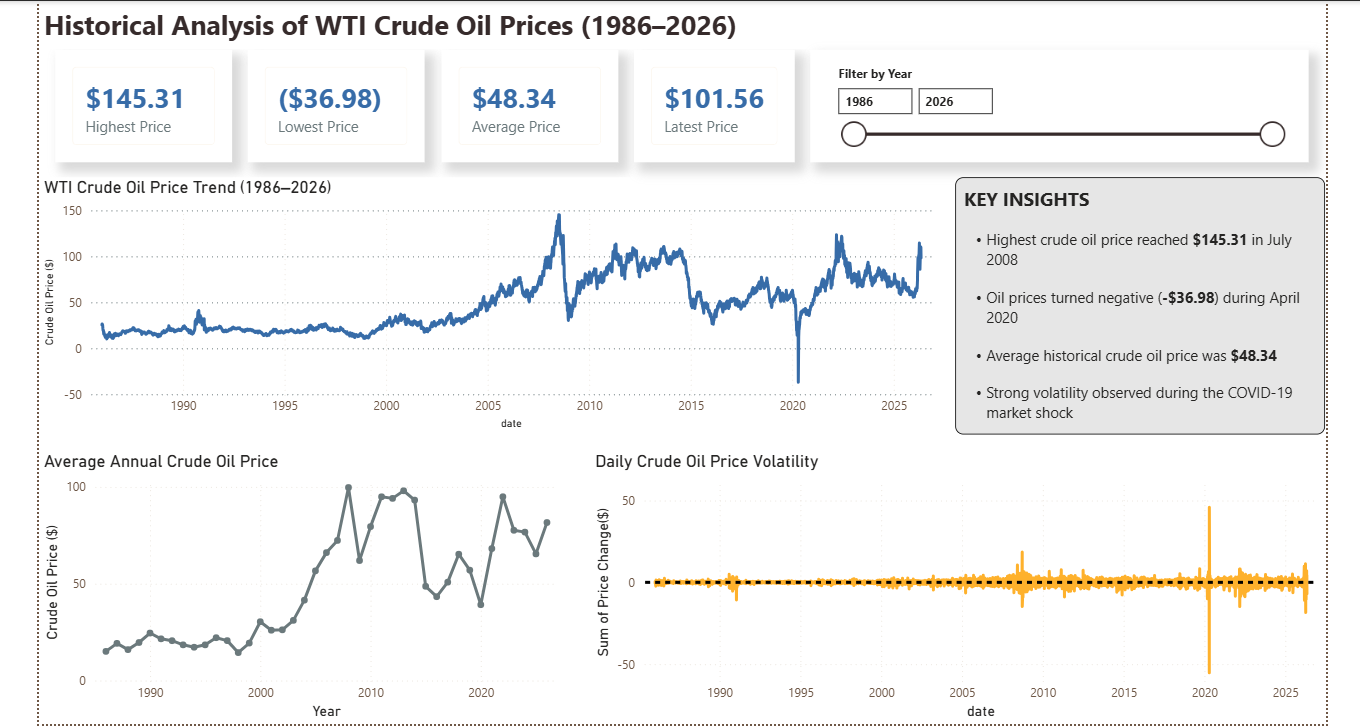

This screenshot's page, from the dashboard's own definition file:
{"tool":"powerbi","page":{"name":"Page 1","canvas":[1280,720],"ordinal":0},"visuals":[{"type":"cardVisual","fields":{"Data":["Max(refined_crude_oil.price)"]},"box":[16,48,176,112],"z":0},{"type":"cardVisual","fields":{"Data":["Min(refined_crude_oil.price)"]},"box":[208,48,176,112],"z":1000},{"type":"cardVisual","fields":{"Data":["Avg(refined_crude_oil.price)"]},"box":[400,48,176,112],"z":2000},{"type":"lineChart","title":"Average Annual Crude Oil Price","fields":{"Category":["refined_crude_oil.date.Variation.Date Hierarchy.Year"],"Y":["Avg(refined_crude_oil.price)"]},"box":[0,447.8,523.7,272.4],"z":3000},{"type":"lineChart","title":"WTI Crude Oil Price Trend (1986–2026)","fields":{"Y":["Avg(refined_crude_oil.price)"],"Category":["refined_crude_oil.date"]},"box":[0,176,896,256],"z":4000},{"type":"cardVisual","fields":{"Data":["refined_crude_oil.Latest Price"]},"box":[592,48,160,112],"z":5000},{"type":"areaChart","title":"Daily Crude Oil Price Volatility","fields":{"Category":["refined_crude_oil.date"],"Y":["Sum(refined_crude_oil.Price_Change)"]},"box":[548.6,447.8,731.4,272.4],"z":6000},{"type":"textbox","box":[0,0,880,48],"z":7000},{"type":"slicer","fields":{"Values":["refined_crude_oil.date.Variation.Date Hierarchy.Year"]},"box":[768,48,496,112],"z":8000},{"type":"textbox","box":[912,176,368,256],"z":9000}]}

Visuals, with their boxes on the page's 1280x720 design canvas (x1, y1, x2, y2). These are canvas units, not pixel positions in the 1360x726 screenshot, which may show the page scaled, cropped or inside an application window:
cardVisual - Max(refined_crude_oil.price): x1=16, y1=48, x2=192, y2=160
cardVisual - Min(refined_crude_oil.price): x1=208, y1=48, x2=384, y2=160
cardVisual - Avg(refined_crude_oil.price): x1=400, y1=48, x2=576, y2=160
"Average Annual Crude Oil Price" lineChart: x1=0, y1=448, x2=524, y2=720
"WTI Crude Oil Price Trend (1986–2026)" lineChart: x1=0, y1=176, x2=896, y2=432
cardVisual - refined_crude_oil.Latest Price: x1=592, y1=48, x2=752, y2=160
"Daily Crude Oil Price Volatility" areaChart: x1=549, y1=448, x2=1280, y2=720
textbox: x1=0, y1=0, x2=880, y2=48
slicer - refined_crude_oil.date.Variation.Date Hierarchy.Year: x1=768, y1=48, x2=1264, y2=160
textbox: x1=912, y1=176, x2=1280, y2=432
